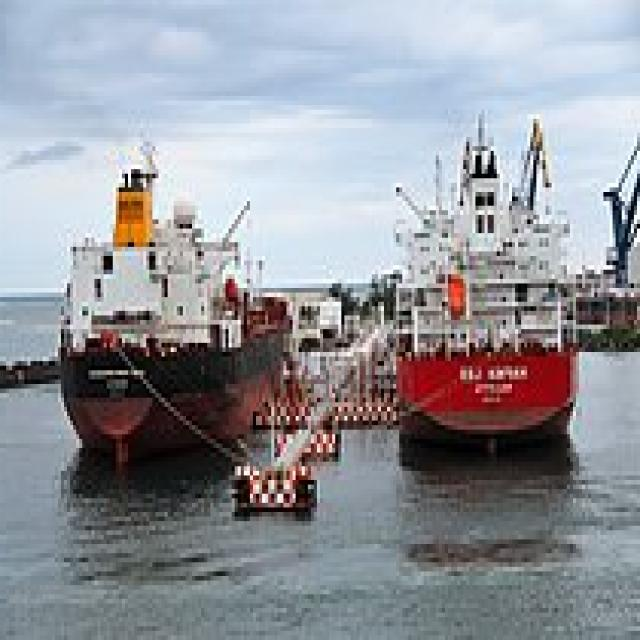Tanker: (58, 128, 292, 480), (387, 96, 585, 453)
